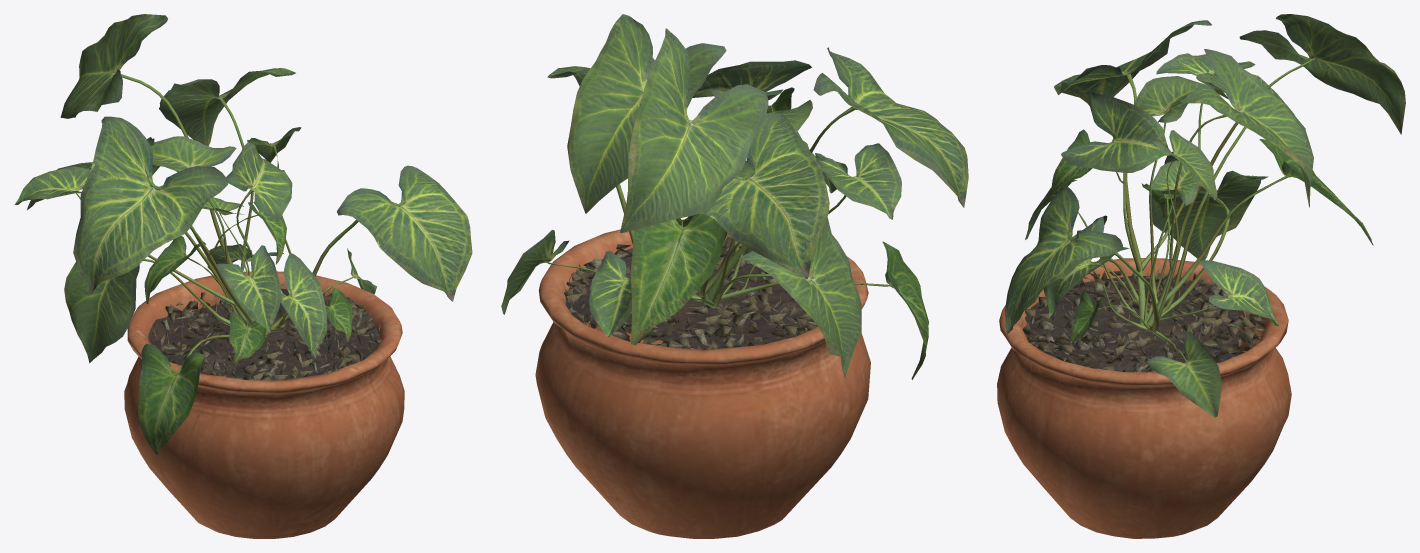
Rendered from potted_plant_02.gltf.
3 renders of one model, left to right at view 1: azimuth 30°, elevation 25°; view 2: azimuth 150°, elevation 25°; view 3: azimuth 270°, elevation 25°, orthographic. The views are drawn at different scales.
Visible parts, largest first — view 1: leaves, pot; view 2: leaves, pot; view 3: pot, leaves.
Boxes of the visible parts, bbox=[...] form: leaves: bbox=[14, 14, 472, 454]; pot: bbox=[124, 271, 404, 538]; leaves: bbox=[501, 14, 968, 379]; pot: bbox=[535, 219, 870, 538]; pot: bbox=[997, 258, 1291, 538]; leaves: bbox=[1005, 14, 1405, 417].
Bounding box in the file's own units: 0.7009 × 0.8412 × 0.6561.
2 materials, 2 textured.
